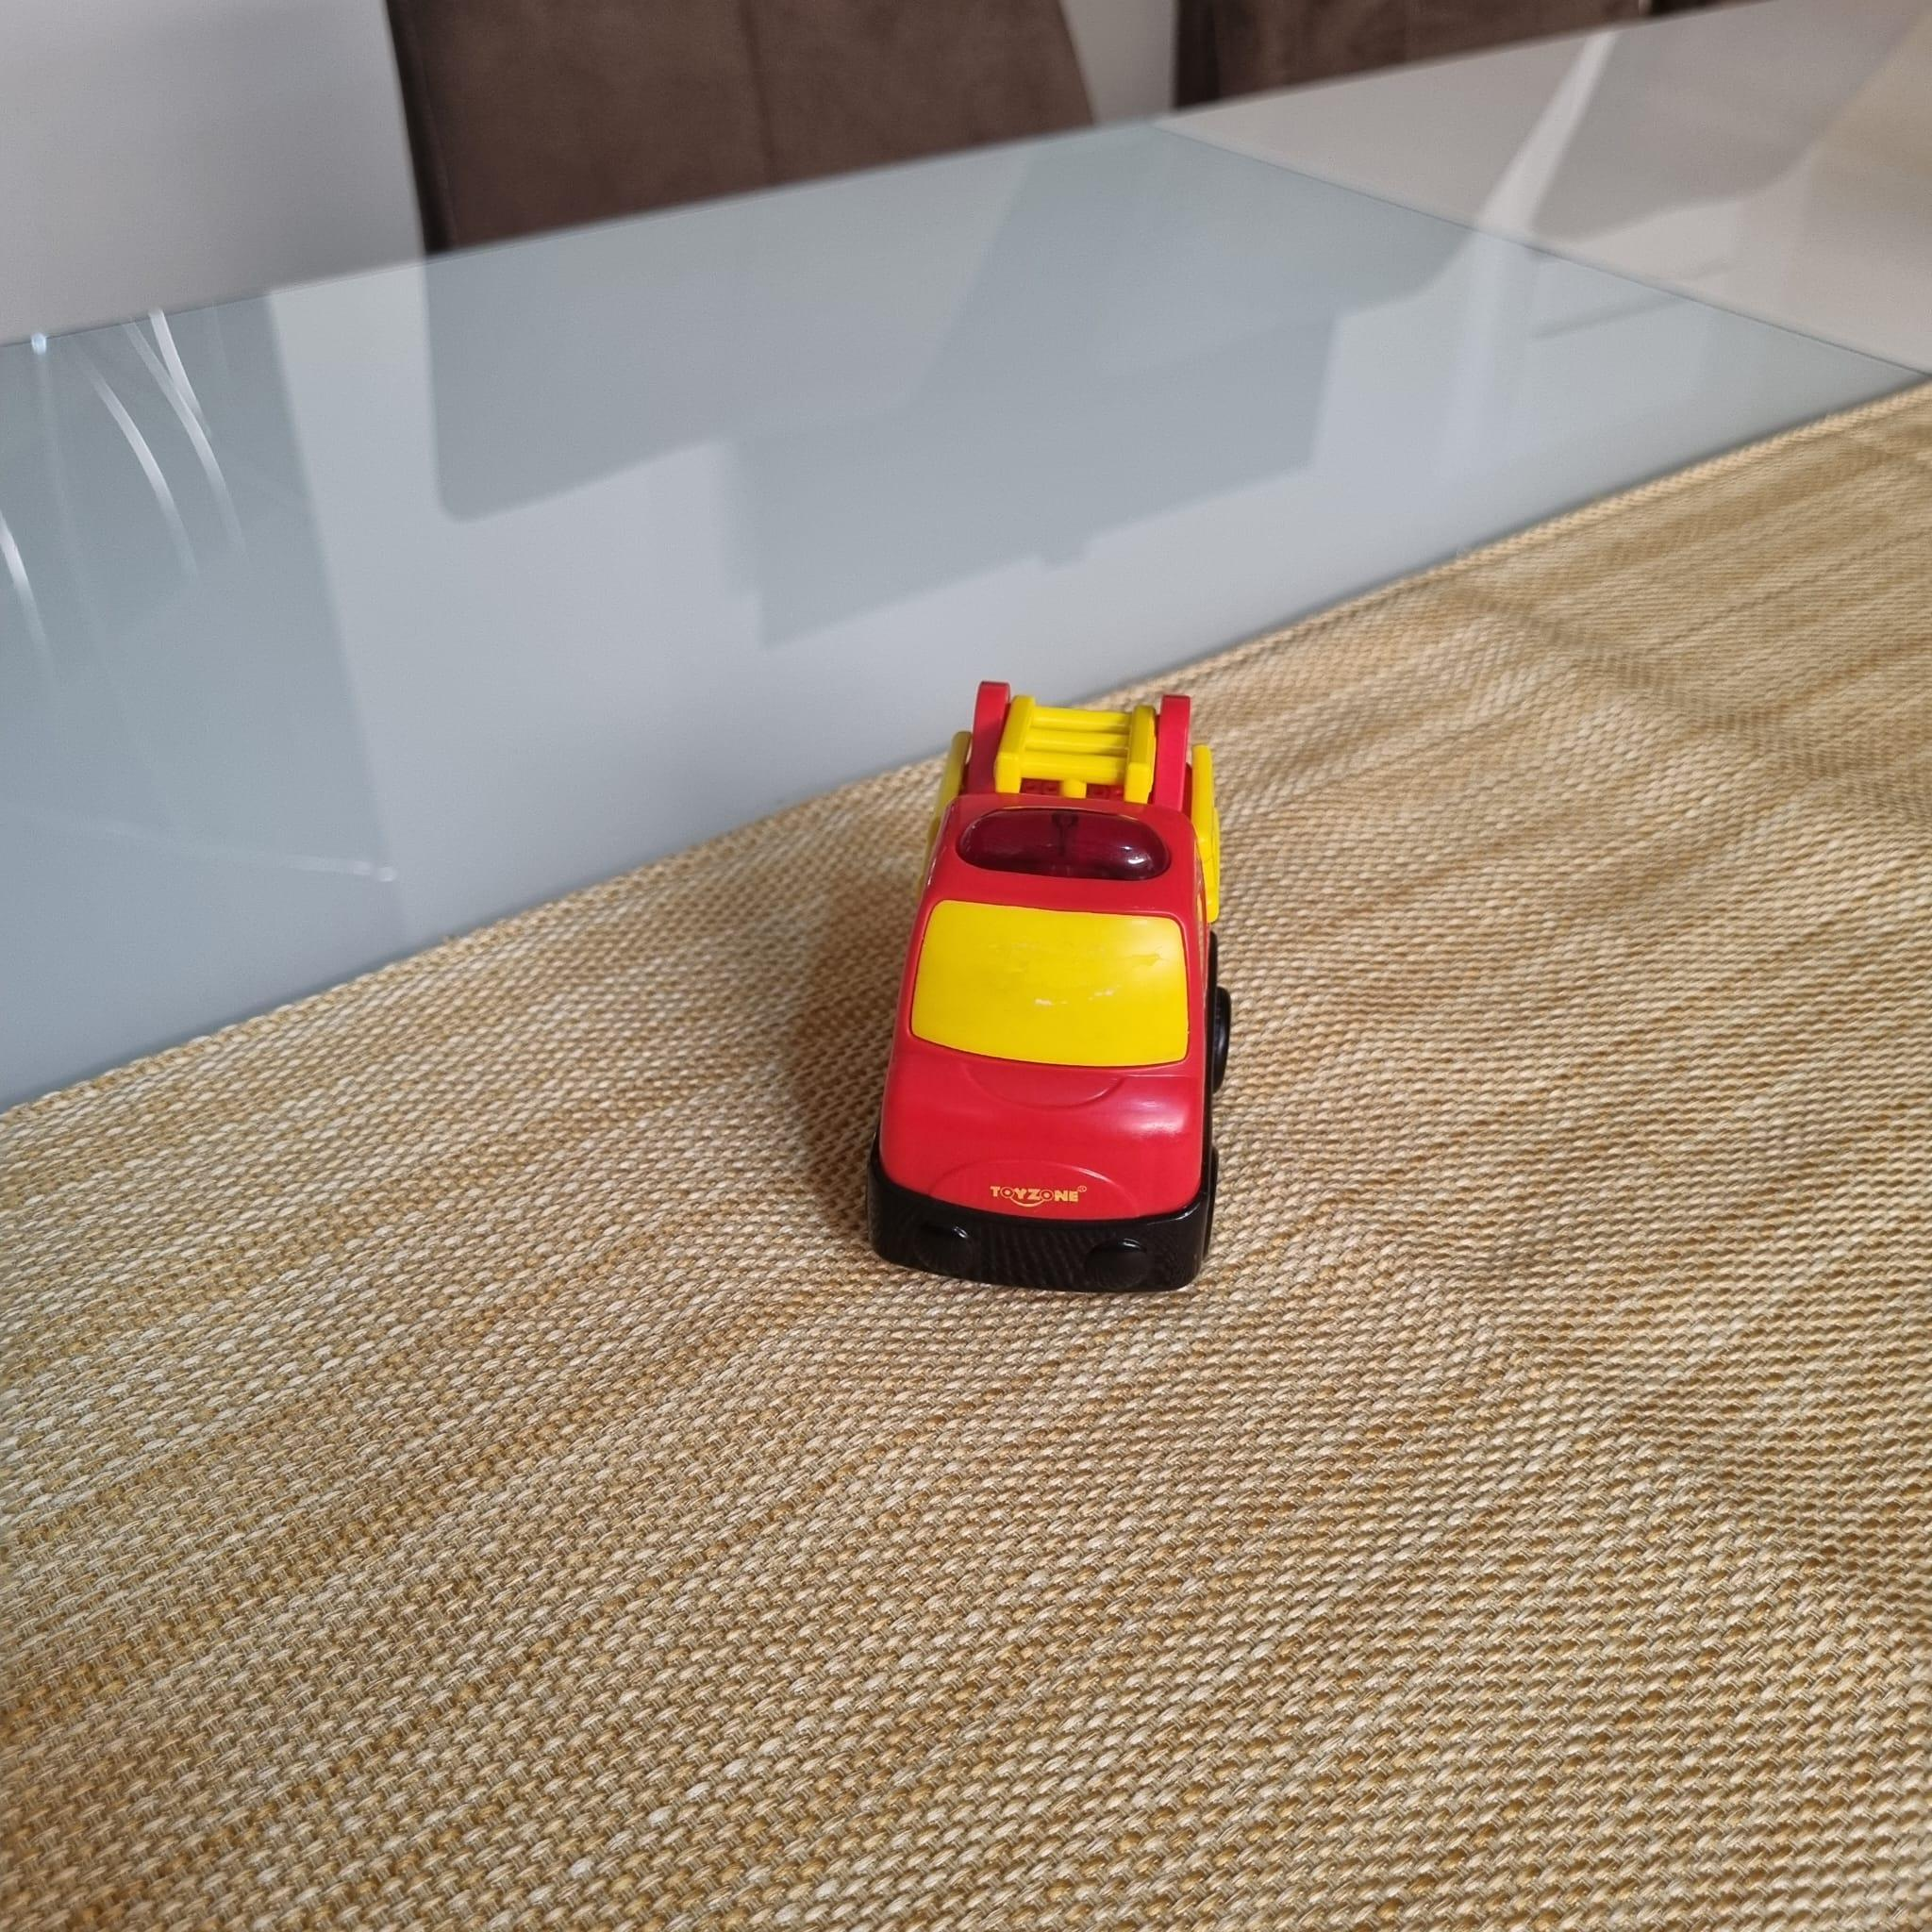firetruck_off: (860, 685, 1230, 1304)
